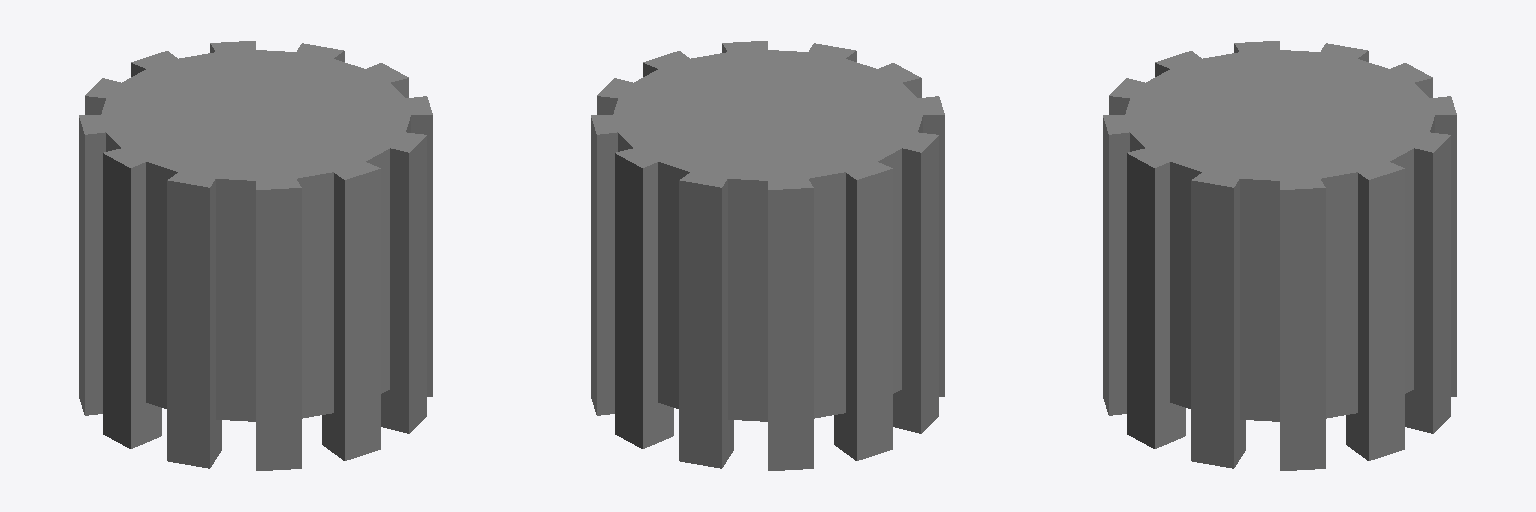
The picture shows the model from 3 angles: view 1: azimuth 30°, elevation 25°; view 2: azimuth 150°, elevation 25°; view 3: azimuth 270°, elevation 25°; orthographic projection.
Bounding box in the file's own units: 0.0546 × 0.0478 × 0.0546.
Materials: 1 (1 with a texture image).